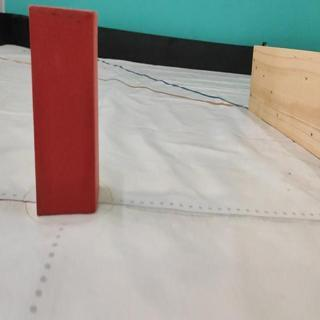redbox: (28, 4, 99, 217)
